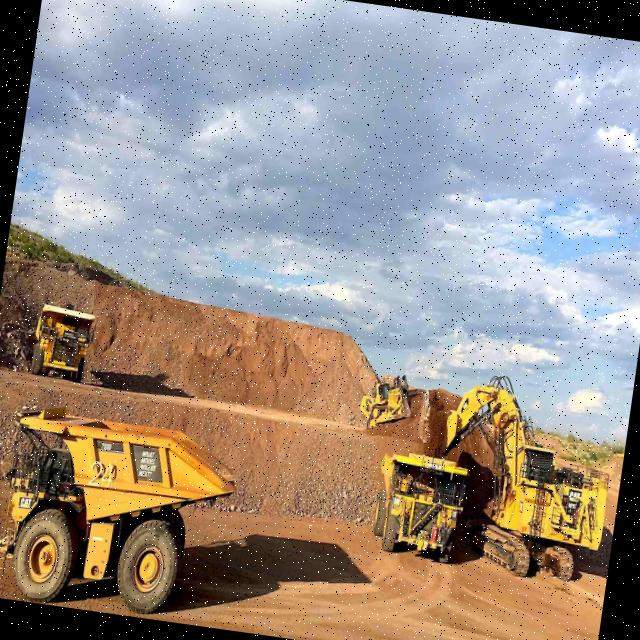Bulldozer: (348, 367, 423, 442)
Dump Truck: (0, 391, 250, 615), (365, 452, 473, 575), (20, 283, 104, 386)
Excavator: (402, 374, 622, 593)
